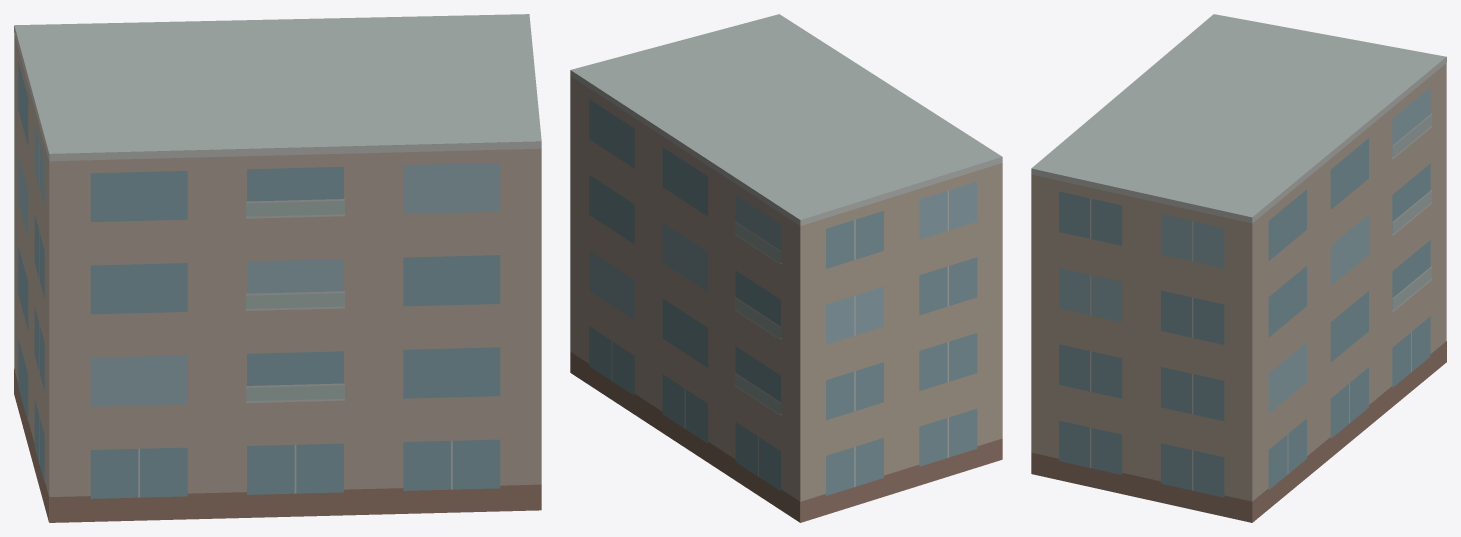
Rendered from survey-upis-32944702.glb.
3 views of the same model, side by side, from view 1: azimuth 30°, elevation 25°; view 2: azimuth 150°, elevation 25°; view 3: azimuth 270°, elevation 25° (orthographic). The views are drawn at different scales.
Parts seen in each view (by area): view 1: survey-upis-32944702.tmp; view 2: survey-upis-32944702.tmp; view 3: survey-upis-32944702.tmp.
Part boxes in pixels (x1,y1,x2,y2): survey-upis-32944702.tmp: (14,14,541,522); survey-upis-32944702.tmp: (570,14,1002,522); survey-upis-32944702.tmp: (1031,14,1446,522).
Bounding box in the file's own units: 17.43 × 12.2 × 15.05.
